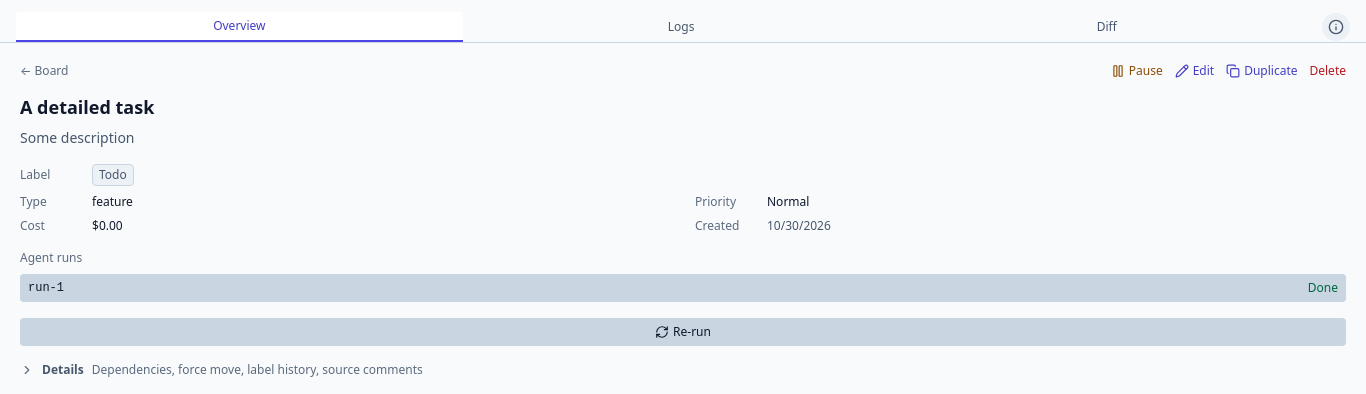
Test: TaskDetailPage tab switching › clicking the Logs tab mounts RunLogPane
This screenshot has width=1366, height=394.
Expected: the heading "A detailed task" is shown, left=20, top=95, right=154, bottom=119
Click the button "Logs" at [681, 27], box left=471, top=13, right=892, bottom=41
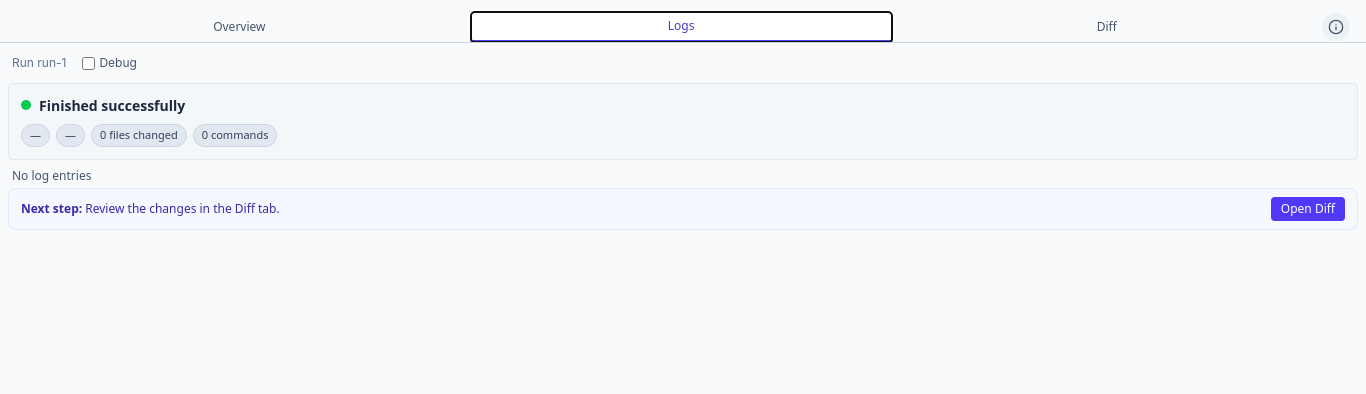
Expected: the element with test id "run-log-pane" is shown, left=0, top=43, right=1365, bottom=242
